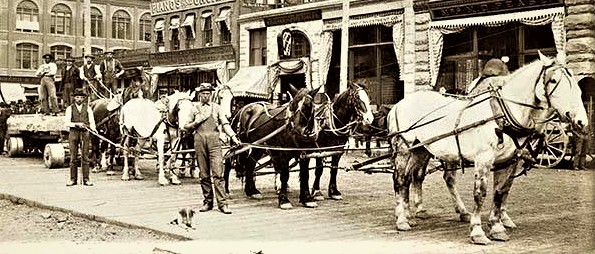fachada: (242, 3, 595, 96), (1, 0, 151, 86), (149, 0, 241, 100)
